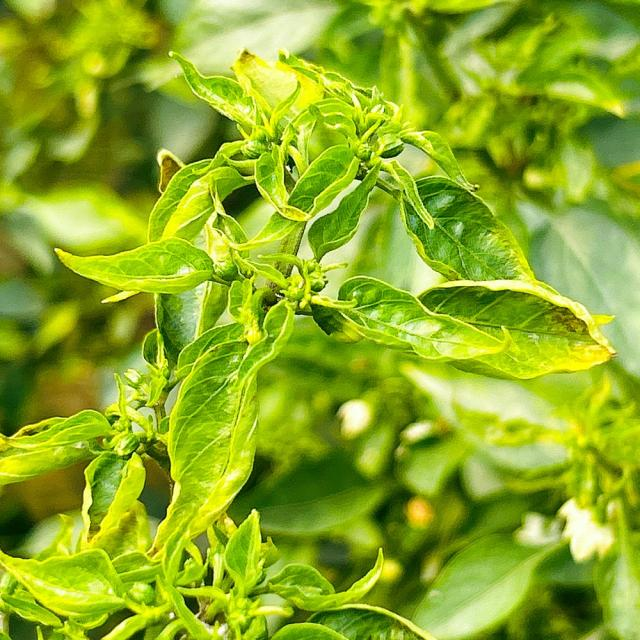Chilli_Leaf_Curl: (2, 44, 620, 638), (148, 292, 296, 568), (310, 274, 618, 381), (53, 235, 220, 304)
